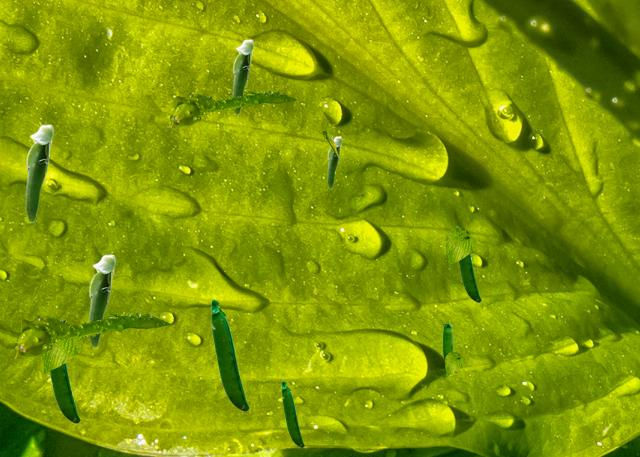pea: (210, 298, 248, 410), (25, 124, 53, 222), (88, 254, 115, 347), (455, 226, 480, 301), (49, 363, 79, 422), (232, 39, 253, 114), (281, 380, 303, 446), (327, 136, 341, 188), (443, 324, 453, 363)
